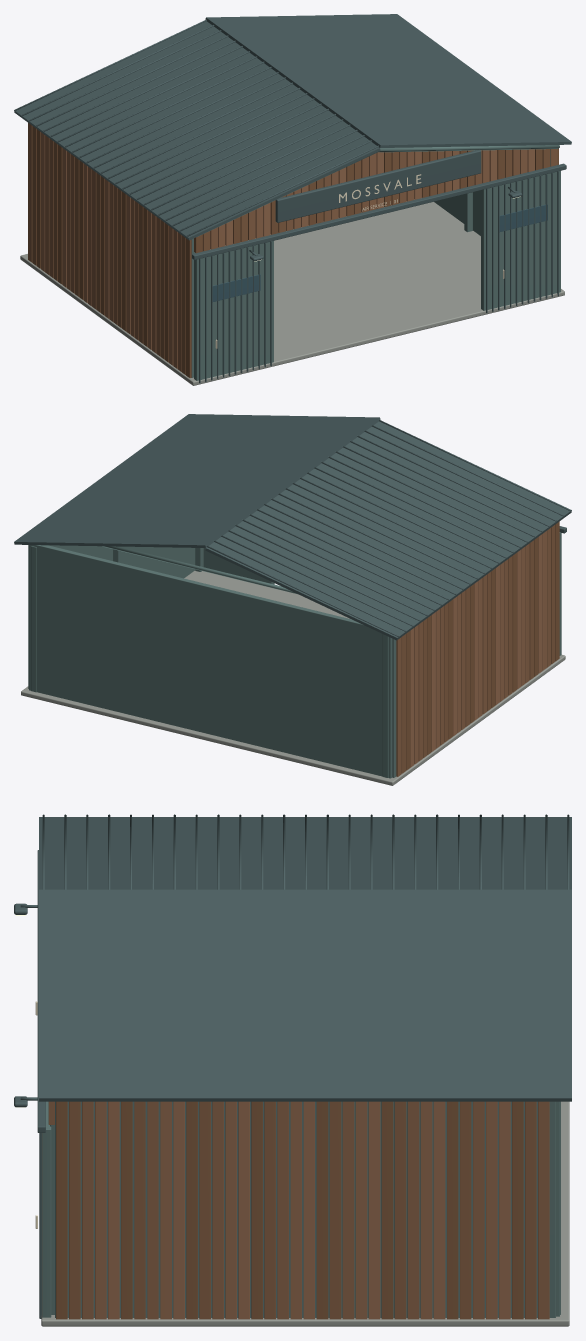
The model's file is mossvale_hangar.glb.
3 renders of one model, top to bottom at view 1: azimuth 30°, elevation 25°; view 2: azimuth 150°, elevation 25°; view 3: azimuth 270°, elevation 25°, orthographic. The views are drawn at different scales.
Parts seen in each view (by area): view 1: Zinc roof, Concrete sill, Zinc roof.001, Sliding door, Sliding door.001, Airfield nameboard, Door track, Gable beam.001, Side wall.001, Cedar side plank, Door window.001, Door window (+37 smaller); view 2: Back wall, Zinc roof, Zinc roof.001, Concrete sill, Side wall.001, Structural post.002, Structural post.005, Roof tie.002, Cedar side plank.037, Sliding door.001, Side wall, Cedar side plank (+36 smaller); view 3: Zinc roof.001, Zinc roof, Side wall.001, Concrete sill, Cedar side plank.058, Cedar side plank.059, Cedar side plank.060, Cedar side plank.061, Cedar side plank.062, Cedar side plank.063, Cedar side plank.064, Cedar side plank.065 (+34 smaller).
Part boxes in pixels (left/top/right/bottom): Zinc roof: left=14, top=21, right=380, bottom=240; Concrete sill: left=20, top=199, right=564, bottom=385; Zinc roof.001: left=205, top=14, right=571, bottom=147; Sliding door: left=194, top=241, right=273, bottom=380; Sliding door.001: left=481, top=171, right=560, bottom=310; Airfield nameboard: left=275, top=149, right=481, bottom=222; Door track: left=192, top=163, right=566, bottom=259; Gable beam.001: left=378, top=145, right=559, bottom=152; Side wall.001: left=429, top=168, right=542, bottom=235; Cedar side plank: left=186, top=238, right=191, bottom=377; Door window.001: left=499, top=204, right=547, bottom=231; Door window: left=212, top=274, right=260, bottom=301; Back wall: left=29, top=545, right=392, bottom=778; Zinc roof: left=205, top=420, right=571, bottom=640; Zinc roof.001: left=14, top=414, right=380, bottom=547; Concrete sill: left=21, top=570, right=565, bottom=785; Side wall.001: left=28, top=545, right=195, bottom=688; Structural post.002: left=382, top=634, right=388, bottom=777; Structural post.005: left=31, top=546, right=36, bottom=692; Roof tie.002: left=102, top=546, right=297, bottom=594; Cedar side plank.037: left=396, top=637, right=401, bottom=776; Sliding door.001: left=203, top=548, right=274, bottom=584; Side wall: left=392, top=638, right=396, bottom=777; Cedar side plank: left=555, top=521, right=559, bottom=661; Zinc roof.001: left=39, top=889, right=571, bottom=1101; Zinc roof: left=39, top=817, right=571, bottom=889; Side wall.001: left=55, top=1101, right=555, bottom=1317; Concrete sill: left=41, top=1101, right=569, bottom=1326; Cedar side plank.058: left=316, top=1101, right=328, bottom=1319; Cedar side plank.059: left=329, top=1101, right=341, bottom=1319; Cedar side plank.060: left=342, top=1101, right=354, bottom=1319; Cedar side plank.061: left=355, top=1101, right=367, bottom=1319; Cedar side plank.062: left=368, top=1101, right=380, bottom=1319; Cedar side plank.063: left=381, top=1101, right=393, bottom=1319; Cedar side plank.064: left=394, top=1101, right=406, bottom=1319; Cedar side plank.065: left=407, top=1101, right=419, bottom=1319.
Size of the model in its own units: 14.83 by 7.25 by 12.25.
